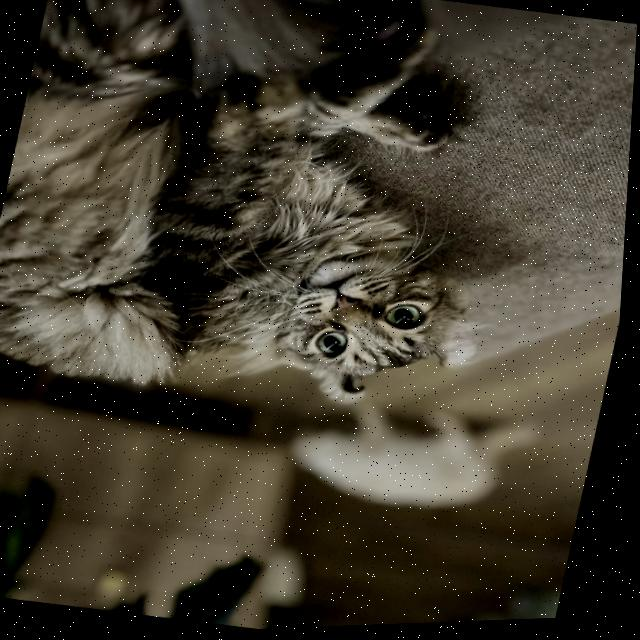American Curl: (0, 0, 557, 450)
